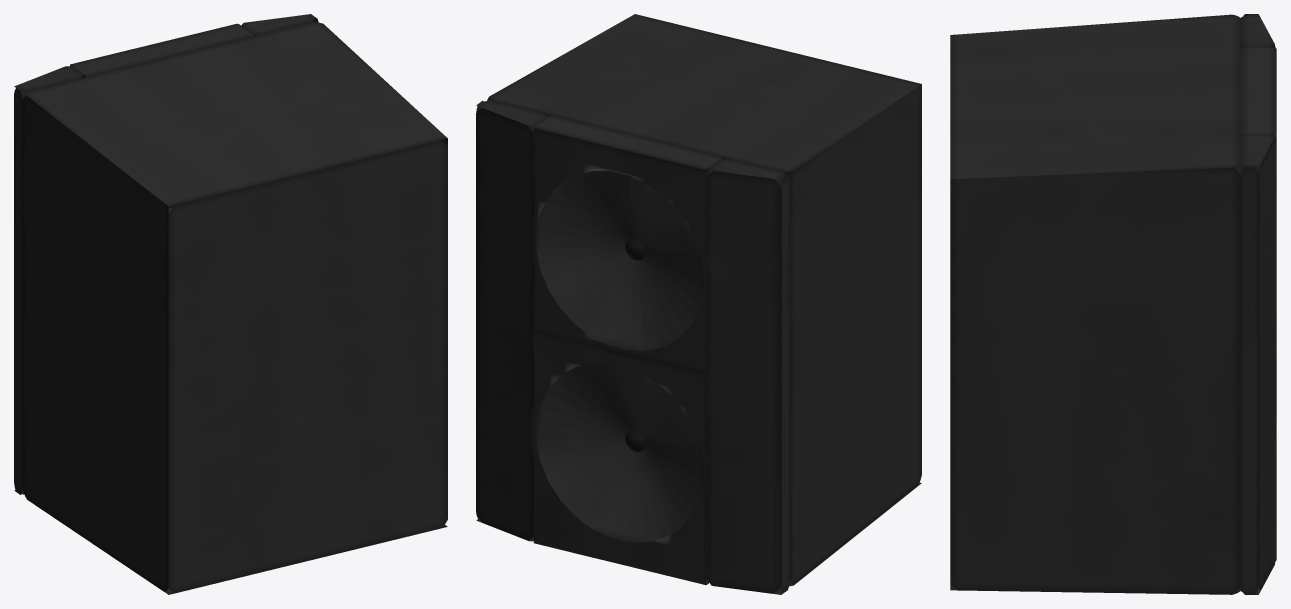
Rendered from speaker.fbx.
The picture shows the model from 3 angles, left to right: view 1: azimuth 30°, elevation 25°; view 2: azimuth 150°, elevation 25°; view 3: azimuth 270°, elevation 25°; orthographic projection. The views are drawn at different scales.
Visible parts, largest first — view 1: cuboid, cuboid_2, tube, cuboid_1; view 2: cuboid, cuboid_2, cuboid_1, cone, cone_1, tube, tube_1; view 3: cuboid, cuboid_1, tube, cuboid_2.
Part boxes in pixels (x1,y1,x2,y2): cuboid: [22, 22, 447, 594]; cuboid_2: [14, 66, 83, 494]; tube: [70, 23, 255, 78]; cuboid_1: [241, 14, 318, 35]; cuboid: [487, 14, 921, 586]; cuboid_2: [705, 159, 789, 594]; cuboid_1: [476, 100, 547, 541]; cone: [536, 362, 703, 542]; cone_1: [536, 171, 703, 350]; tube: [533, 115, 723, 371]; tube_1: [530, 329, 709, 584]; cuboid: [950, 14, 1240, 594]; cuboid_1: [1240, 134, 1276, 594]; tube: [1240, 47, 1276, 324]; cuboid_2: [1240, 14, 1275, 48].
Bounding box in the file's own units: 62.5 × 81.28 × 56.25.
Materials: 1 (1 with a texture image).
